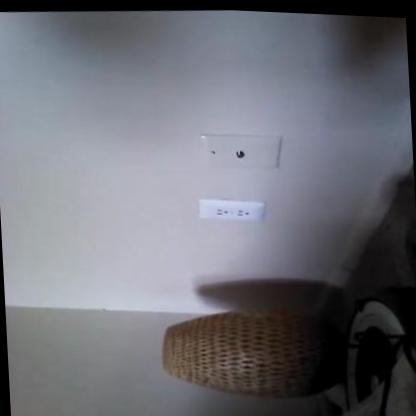OUTLET: (198, 194, 267, 223)
